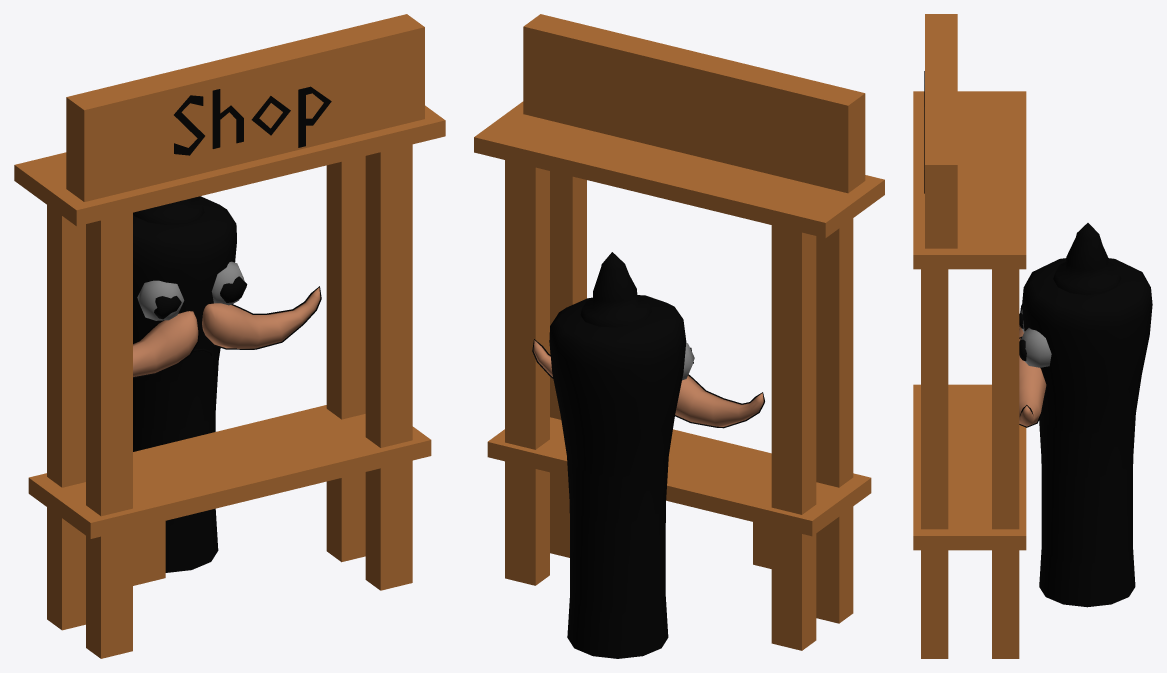
Rendered from kaboundr.fbx.
3 renders of one model, left to right at view 1: azimuth 30°, elevation 25°; view 2: azimuth 150°, elevation 25°; view 3: azimuth 270°, elevation 25°, orthographic. The views are drawn at different scales.
Parts seen in each view (by area): view 1: Shop, Kaboundr; view 2: Shop, Kaboundr; view 3: Shop, Kaboundr.
Boxes of the visible parts, x1=… form: Shop: x1=14, y1=14, x2=445, y2=658; Kaboundr: x1=133, y1=196, x2=321, y2=572; Shop: x1=474, y1=14, x2=884, y2=650; Kaboundr: x1=532, y1=252, x2=764, y2=658; Shop: x1=913, y1=14, x2=1026, y2=658; Kaboundr: x1=1019, y1=223, x2=1152, y2=607.
Bounding box in the file's own units: 156 × 222 × 96.16.
Materials: 2 (1 with a texture image).
